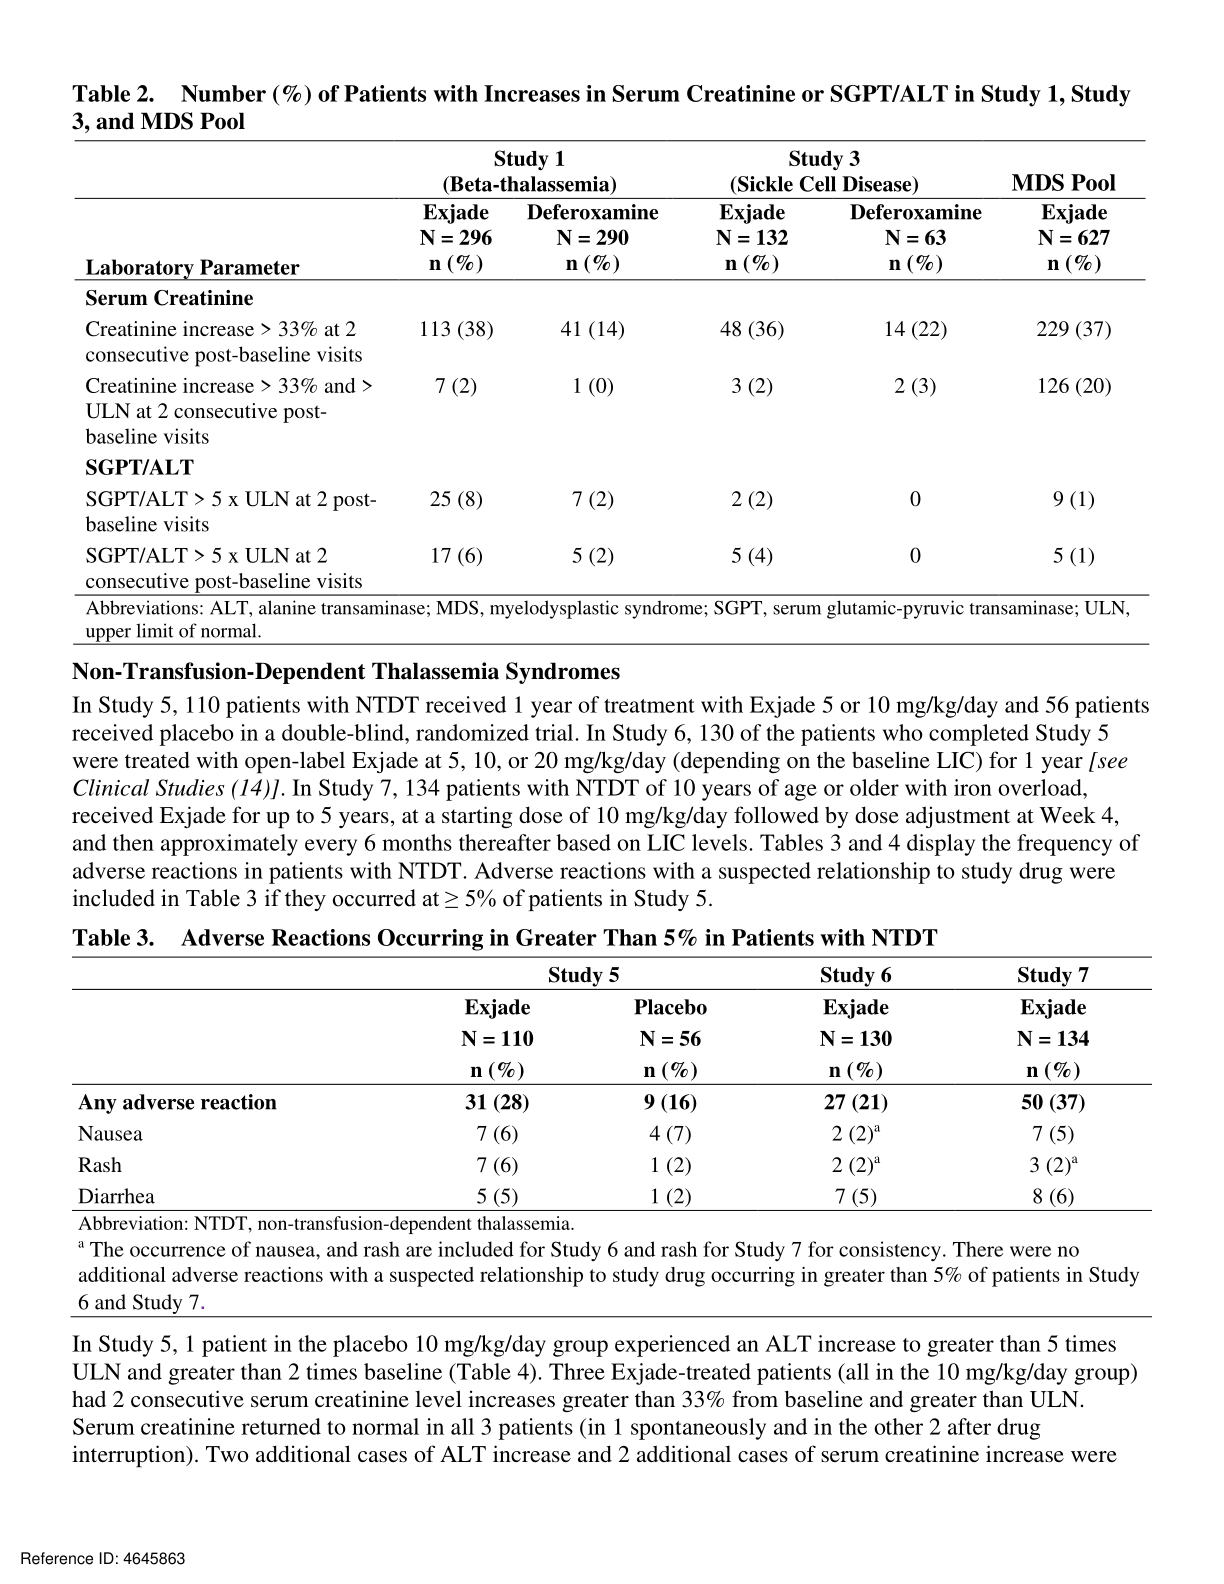partial_lined_merged_cells: (73, 139, 1149, 597), (68, 955, 1155, 1212)
